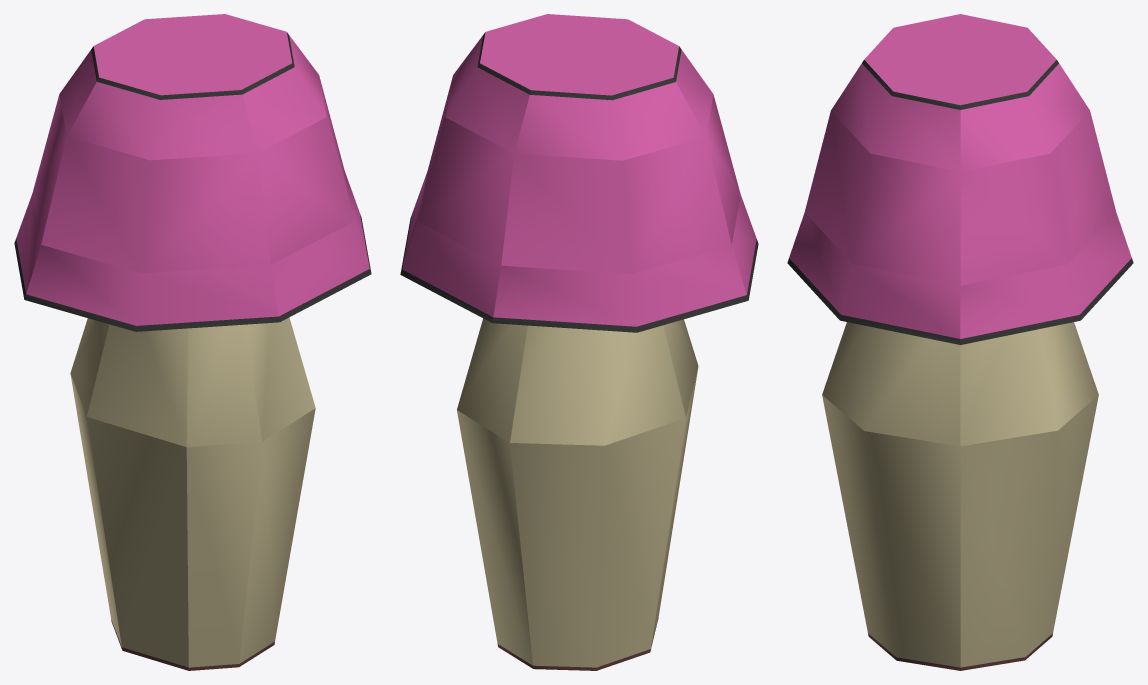
The model's file is Lamp_Bedside.fbx.
3 views of the same model, side by side, from view 1: azimuth 30°, elevation 25°; view 2: azimuth 150°, elevation 25°; view 3: azimuth 270°, elevation 25° (orthographic).
Visible parts, largest first — view 1: Lamp_Head1; view 2: Lamp_Head1; view 3: Lamp_Head1.
Boxes of the visible parts, left/top/right/bottom form: Lamp_Head1: left=14, top=14, right=371, bottom=670; Lamp_Head1: left=400, top=14, right=758, bottom=670; Lamp_Head1: left=787, top=14, right=1133, bottom=670.
Bounding box in the file's own units: 28.02 × 45.95 × 25.
